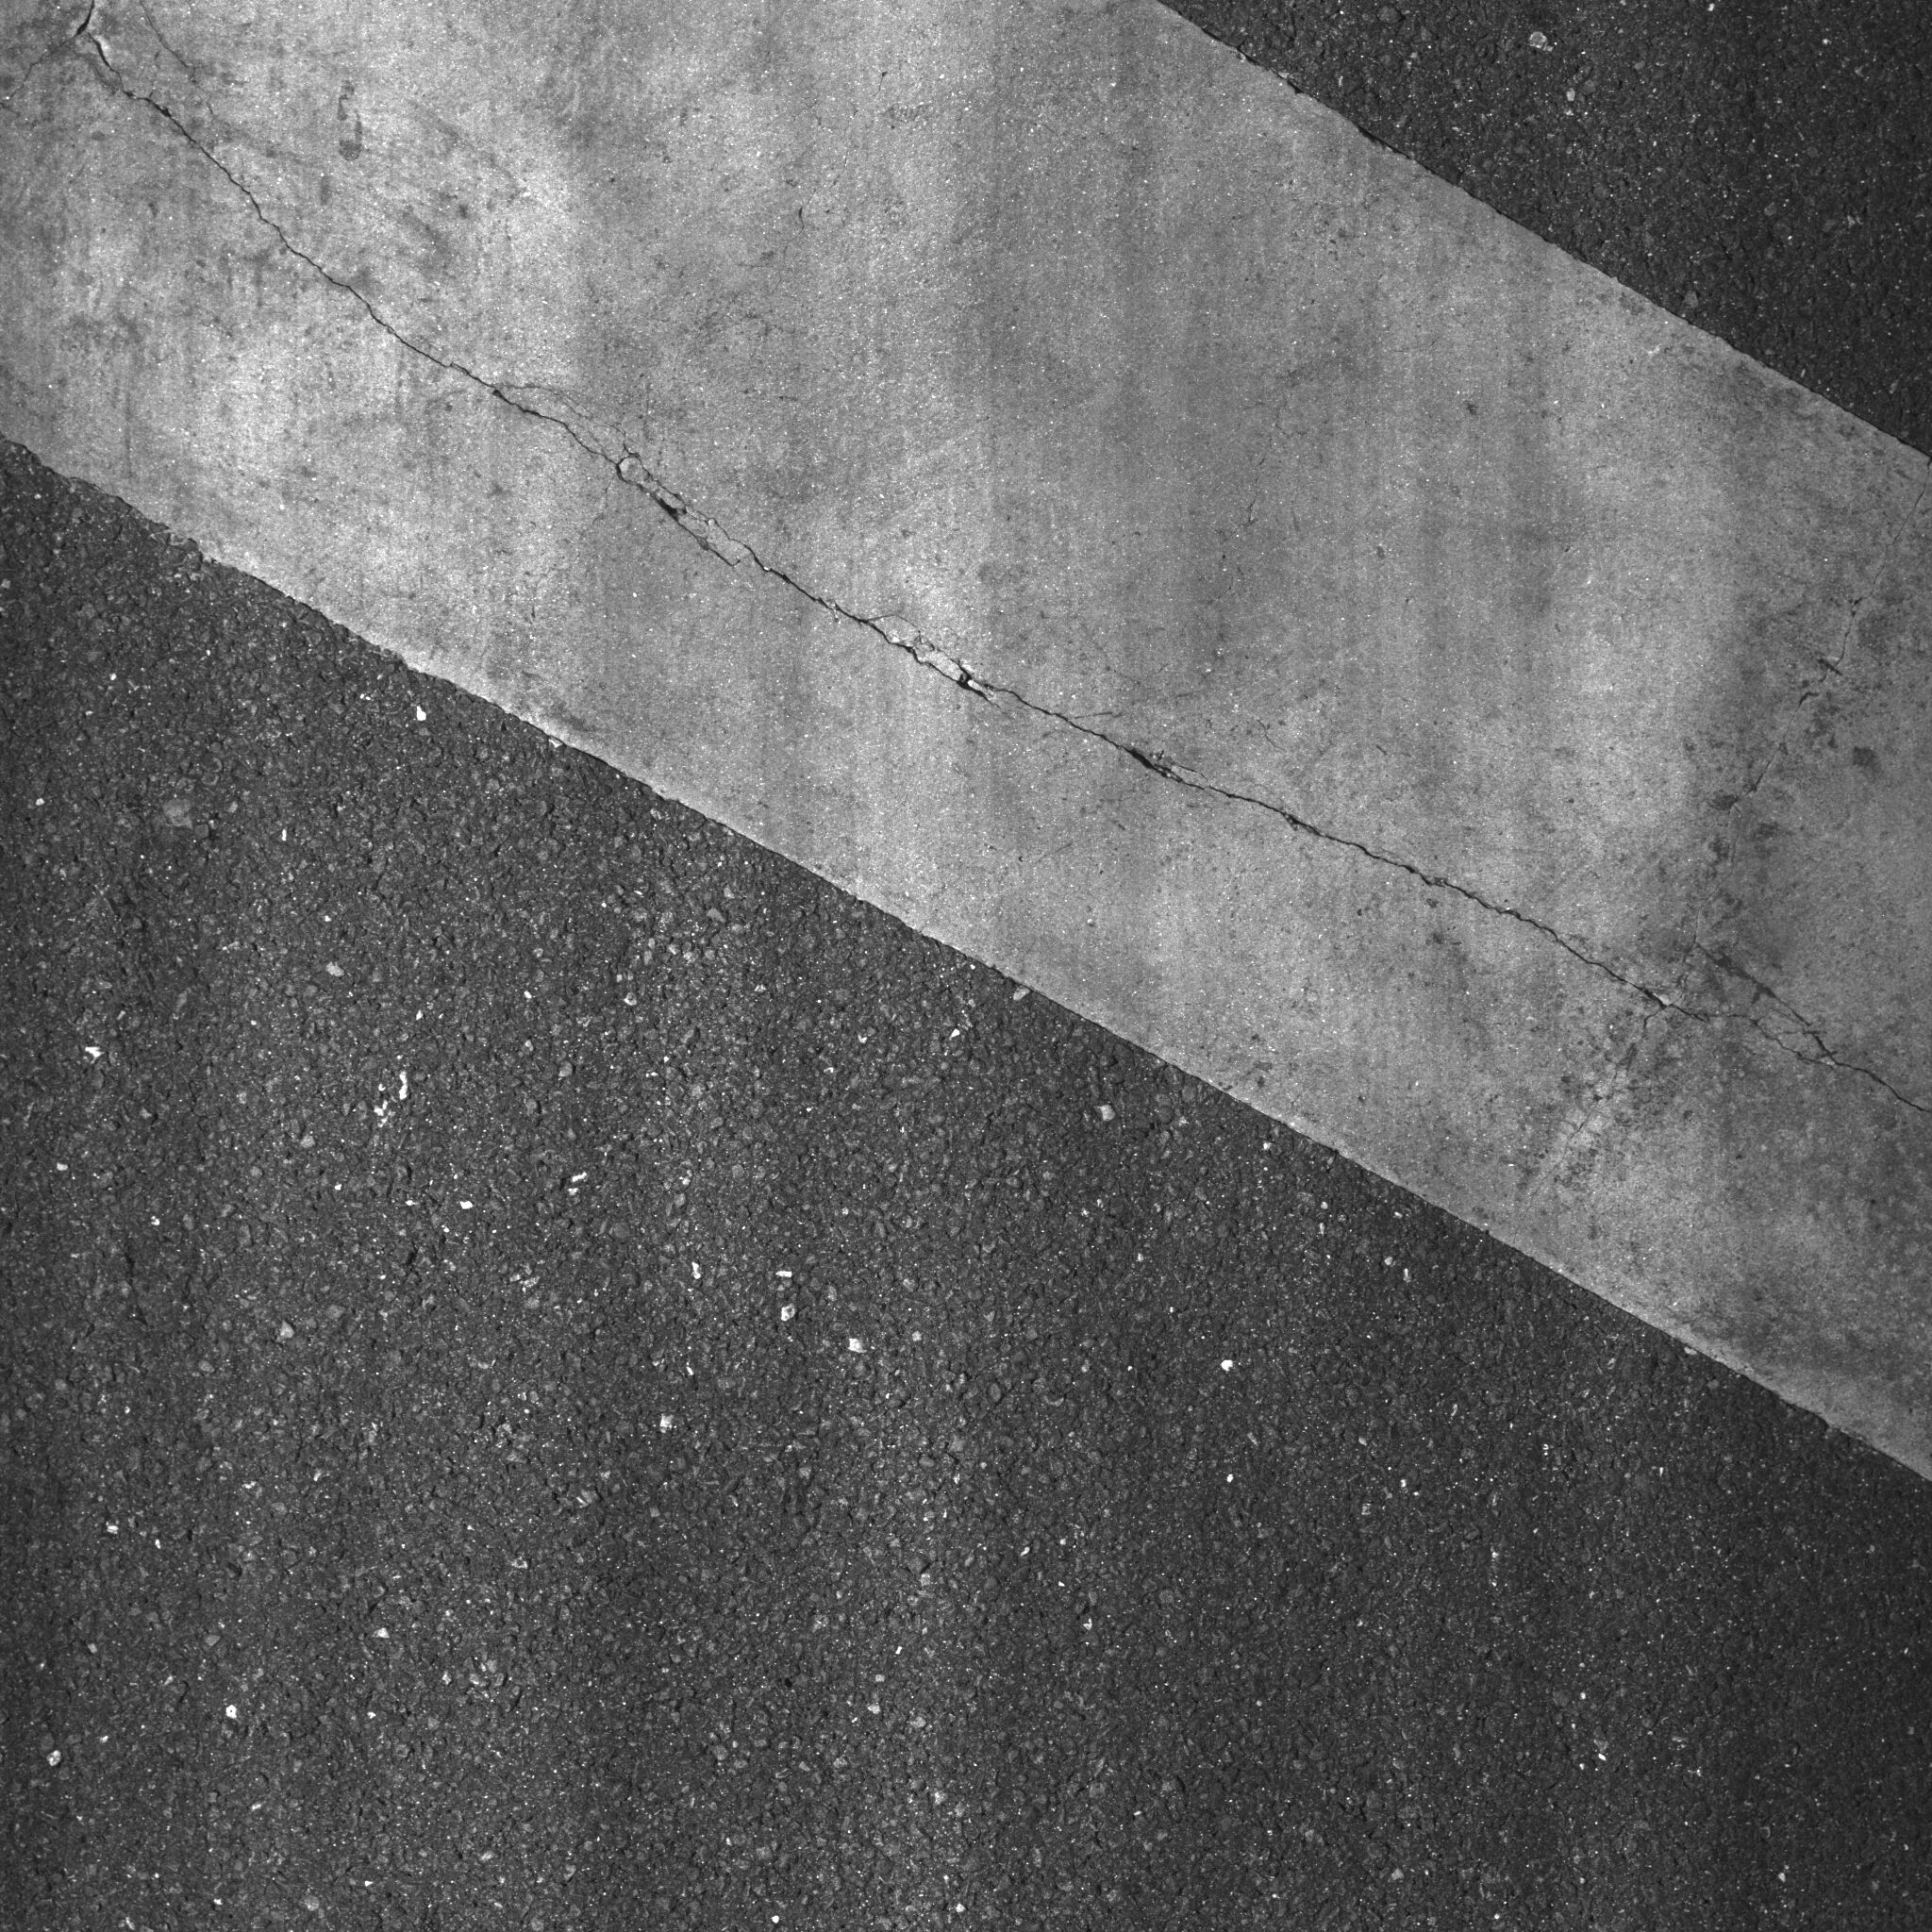transeverse: (53, 39, 1932, 1145)
